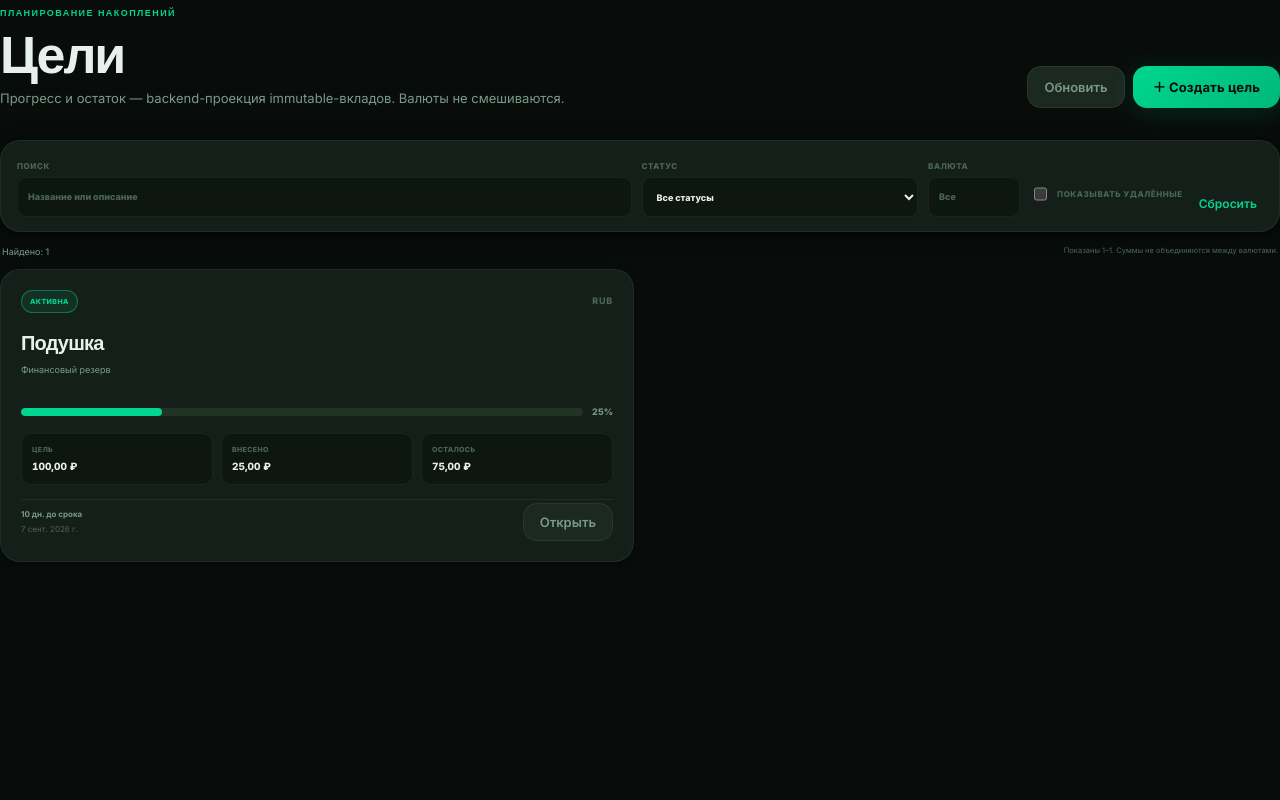
Test case: contribution lost-response retry keeps its key and exact replay converges through fresh GET
The width and height of the screenshot is (1280, 800).
Click the button "Открыть": (568, 522) [523,503,613,541]
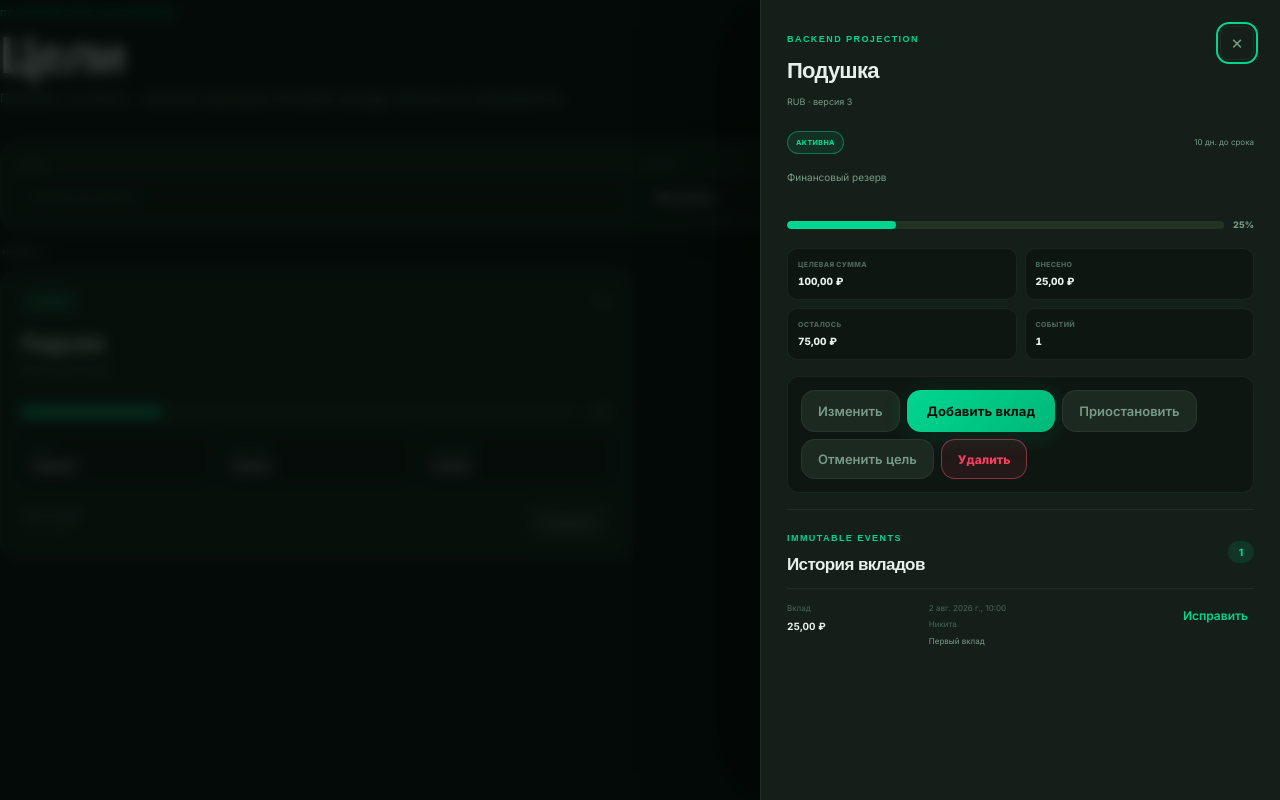
Click the button "Добавить вклад": (981, 411) [907,390,1055,432]
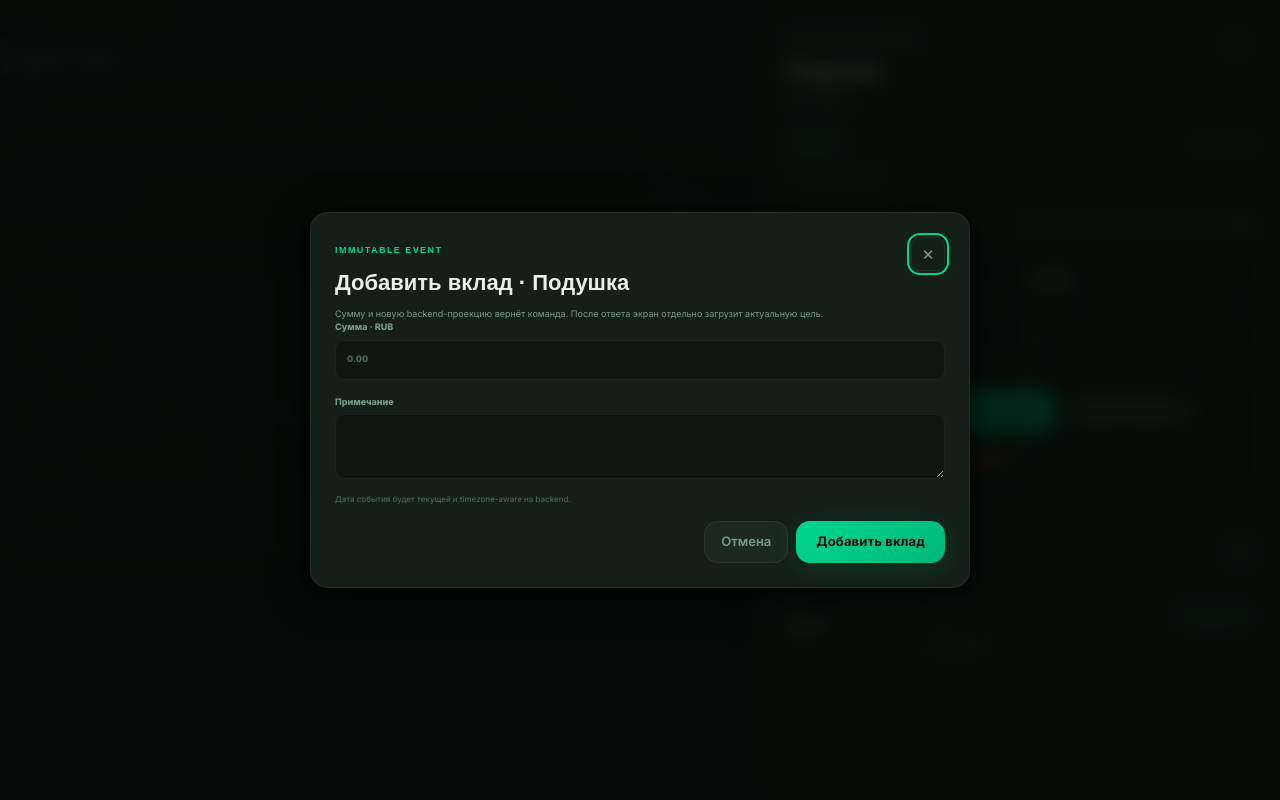
In the field labelled "Сумма · RUB": (640, 360) [335,340,945,380], type "25"
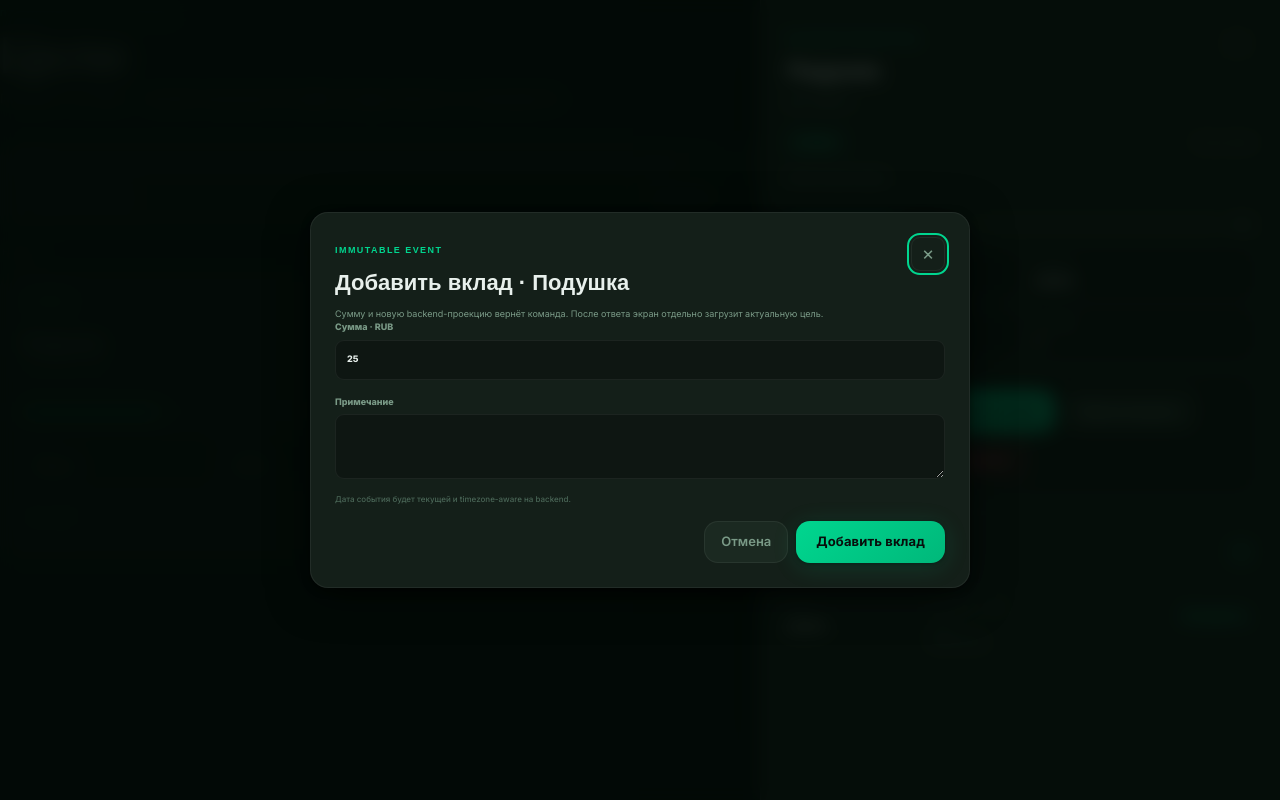
In the text box labelled "Примечание": (640, 447) [335,414,945,479], type "Вклад"
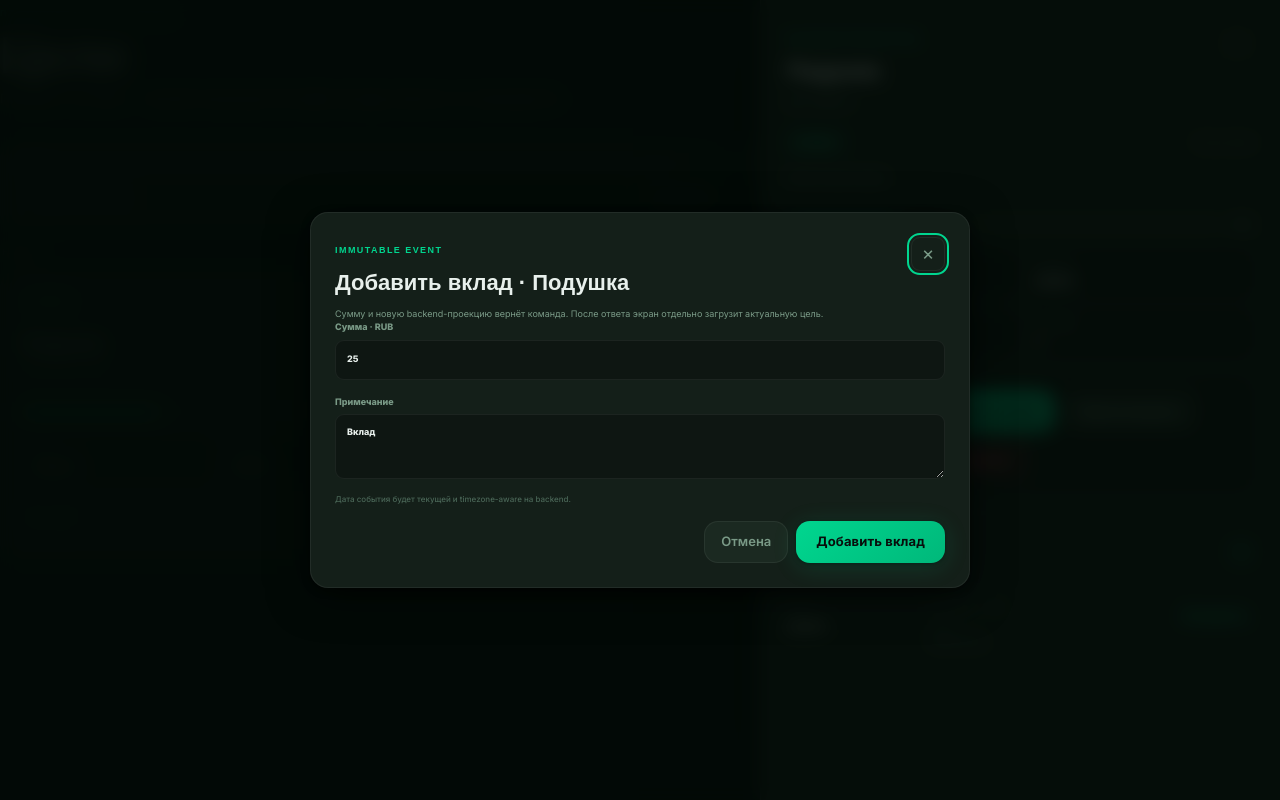
Submit the form, box [335,320,945,563]
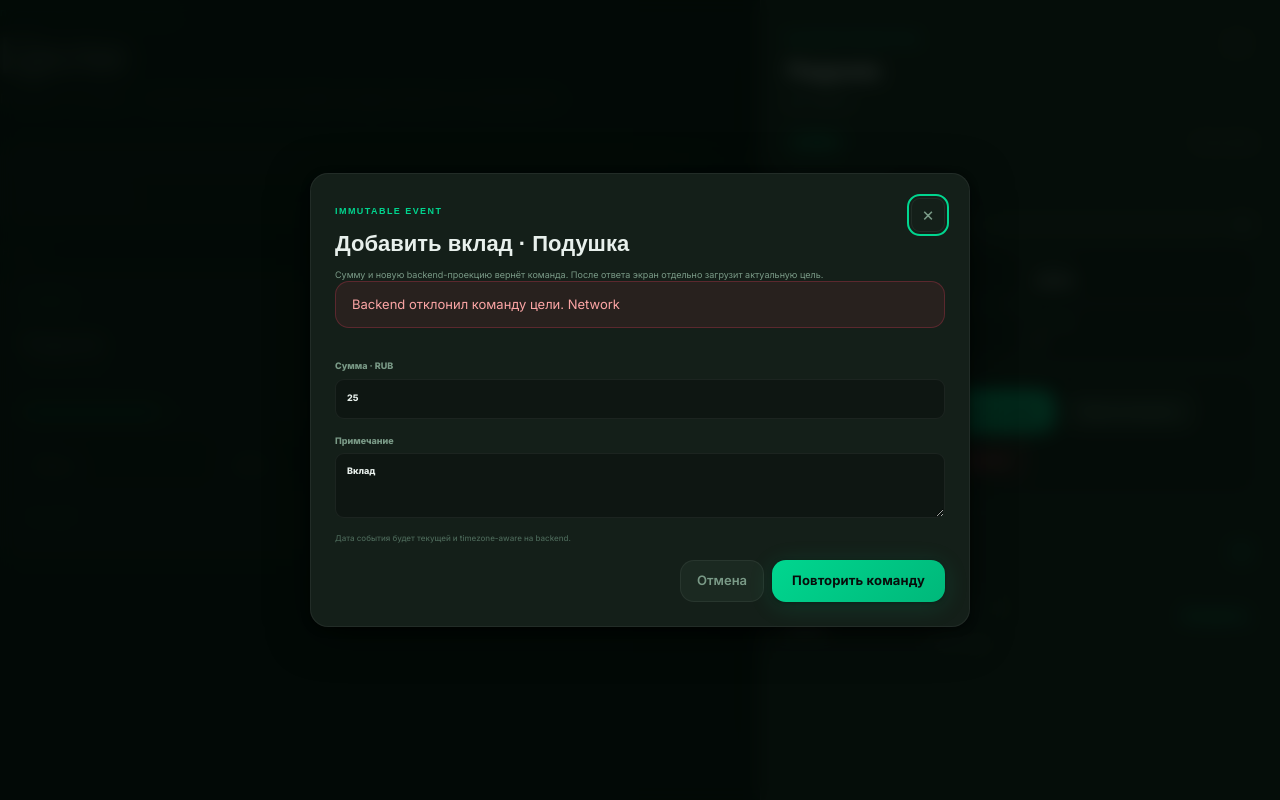
Submit the form, box [335,281,945,602]
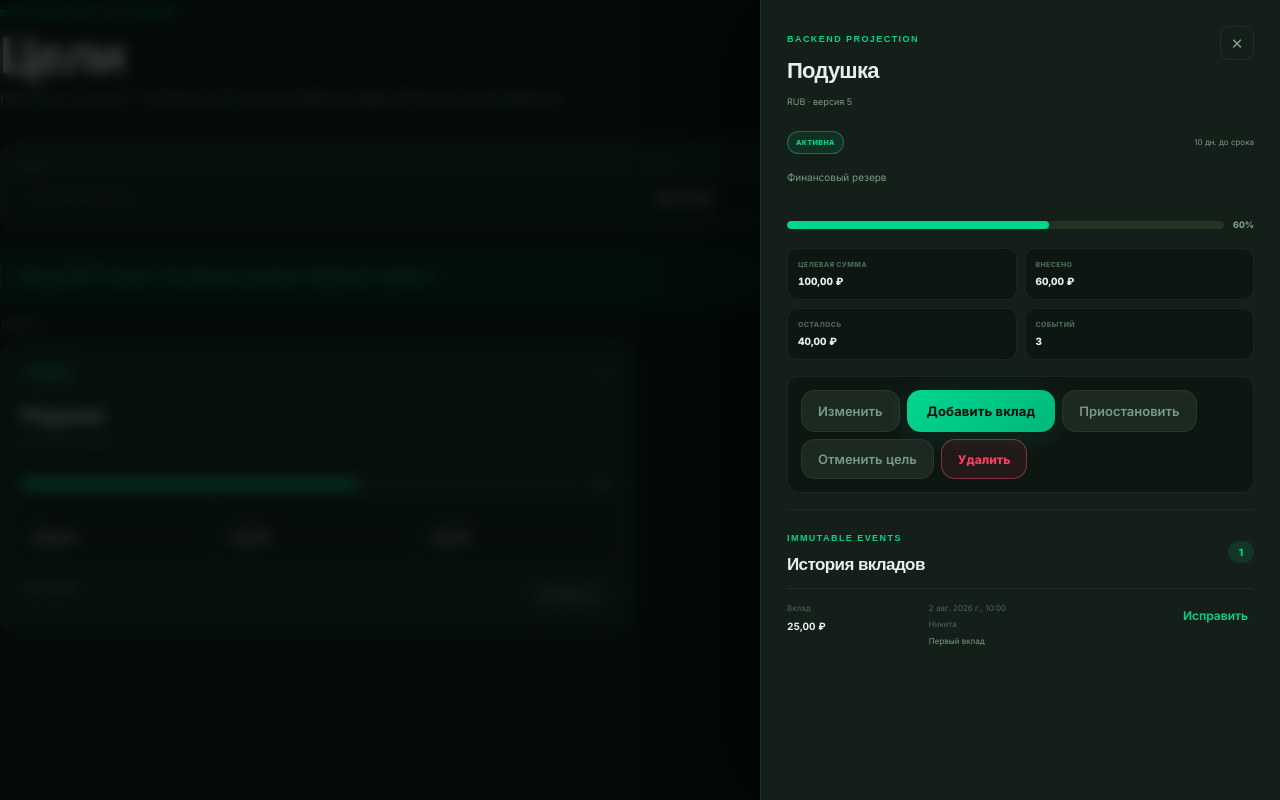
Expected: the dialog shows "60%", [1233,219,1254,230]
